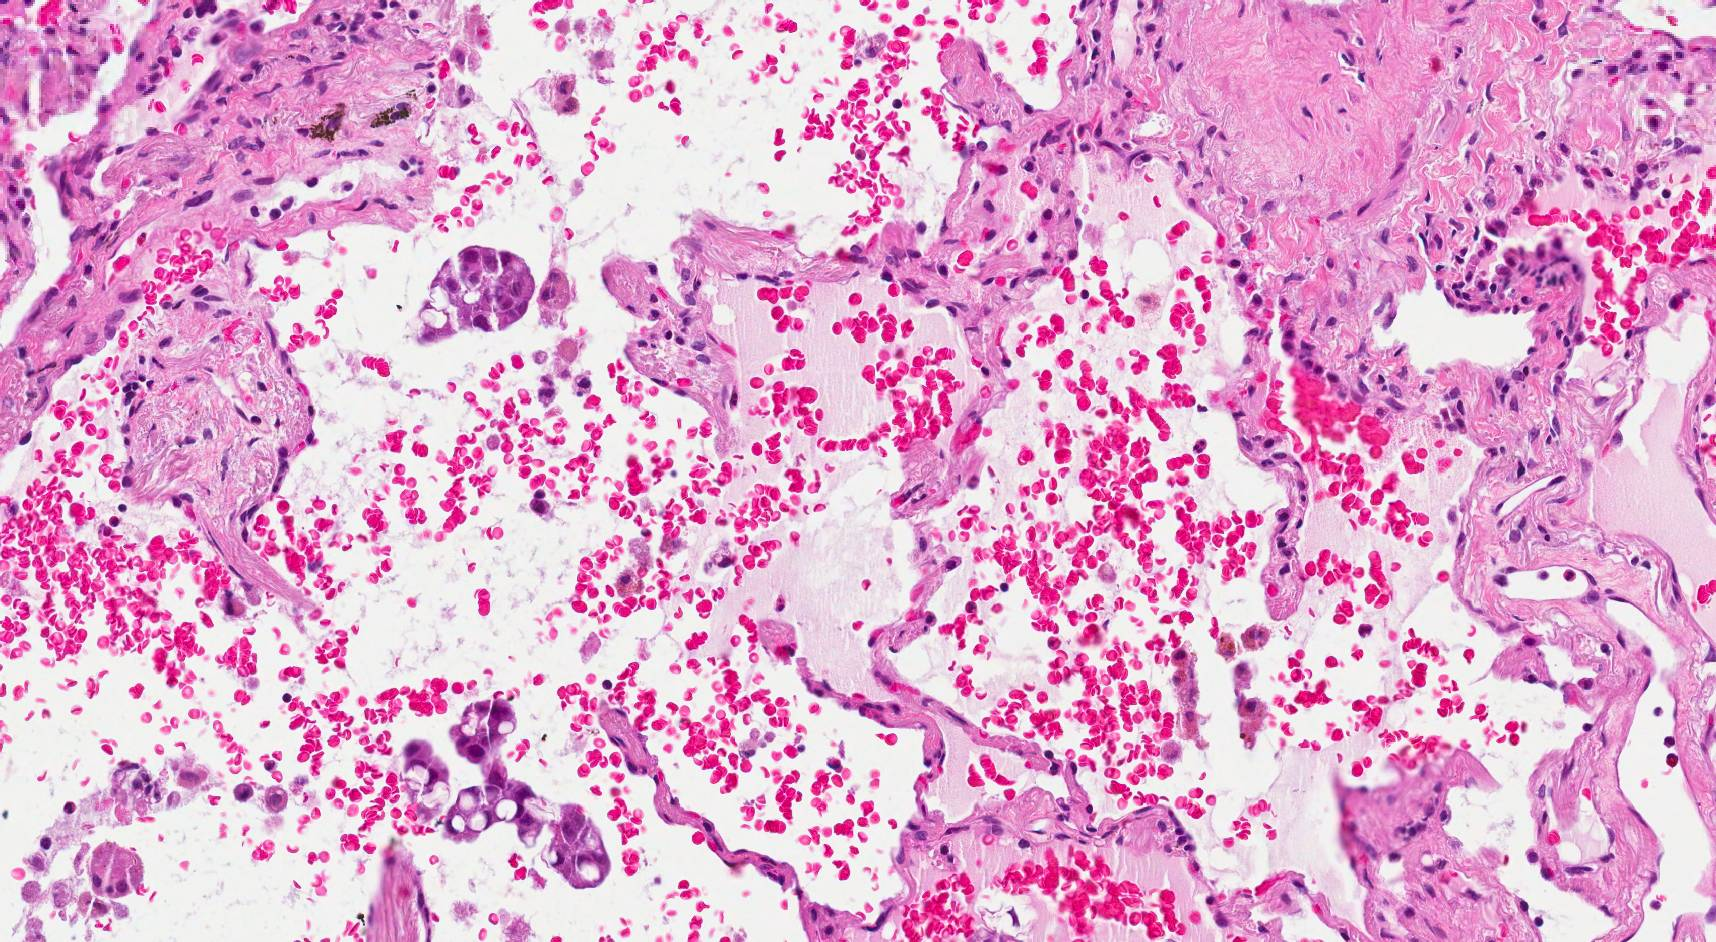stas: (433, 696, 611, 889), (416, 240, 534, 347), (400, 738, 449, 821)
